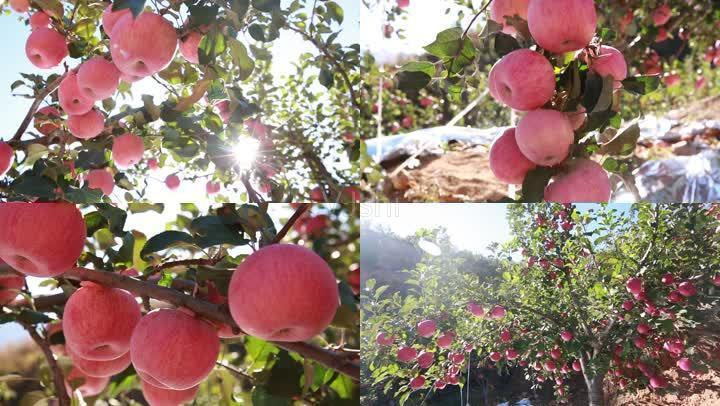apple: (229, 244, 338, 343), (128, 307, 221, 393), (1, 204, 84, 278), (63, 285, 140, 362), (109, 10, 177, 78), (491, 48, 555, 110), (527, 1, 597, 54), (514, 109, 574, 165), (547, 156, 610, 201), (490, 127, 536, 184), (26, 27, 68, 72), (56, 73, 97, 115), (77, 58, 118, 98), (110, 133, 147, 167), (68, 107, 104, 137)
